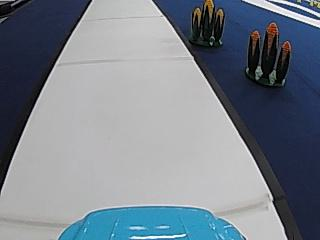corn: (241, 23, 294, 87), (186, 1, 228, 49)
